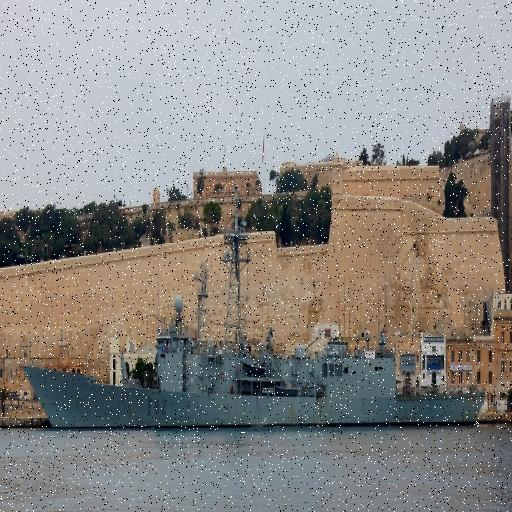Fragata: (21, 183, 489, 437)
